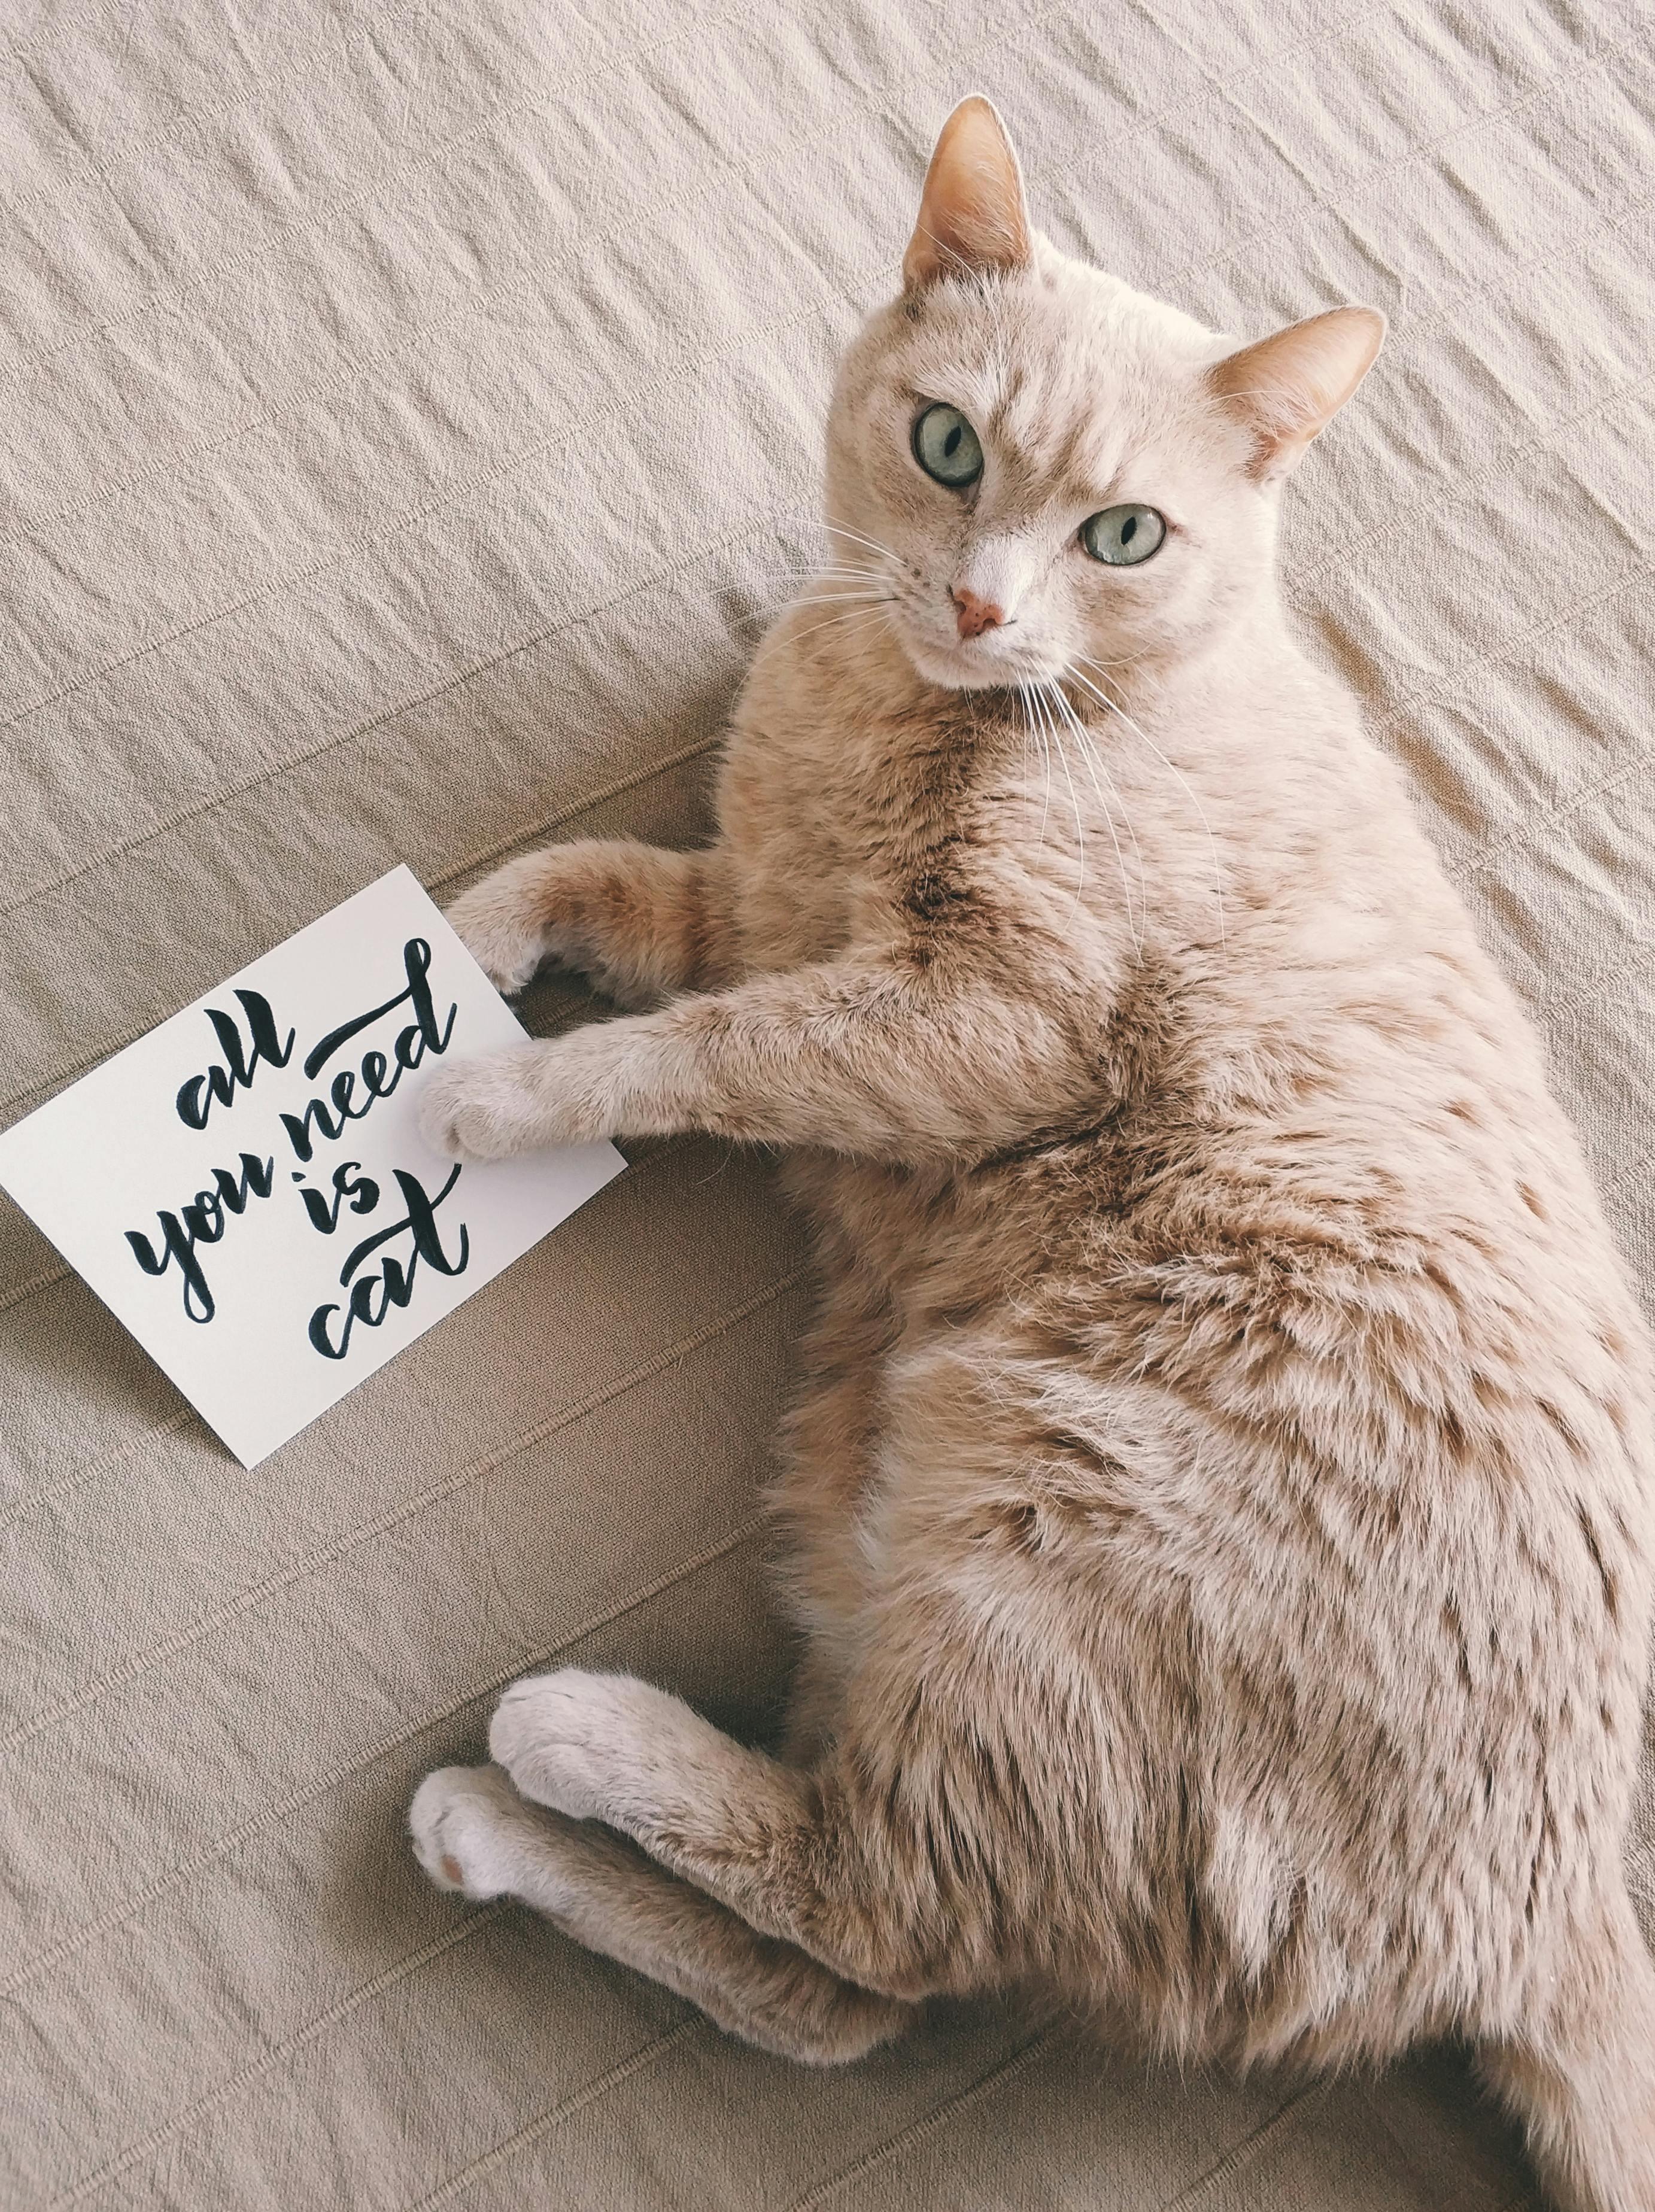kedo: (382, 90, 1655, 2203)
